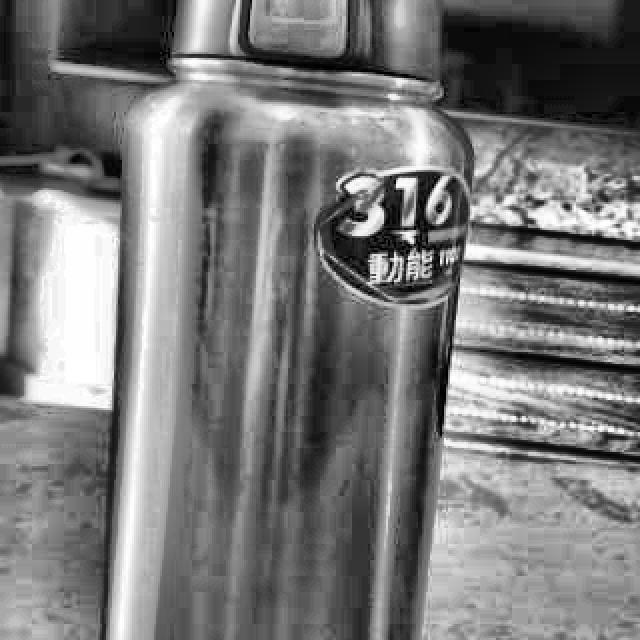bottle: (102, 0, 474, 640)
